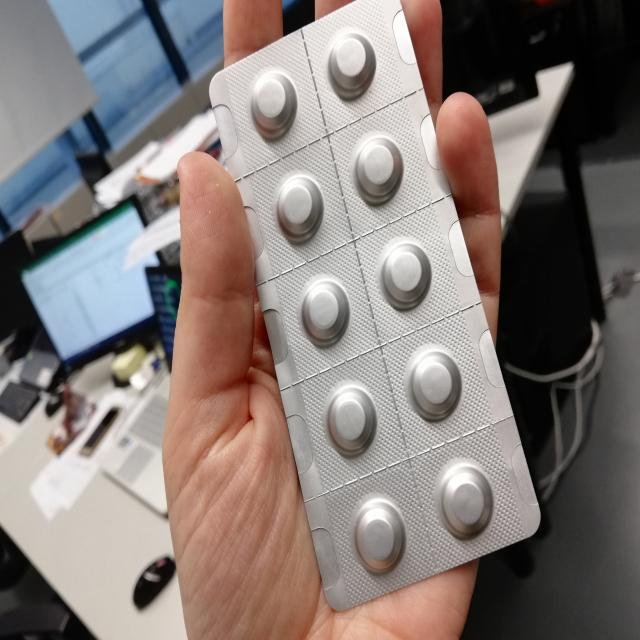Pill: (347, 496, 410, 582), (438, 452, 494, 546), (318, 380, 381, 461), (404, 344, 464, 426), (294, 274, 356, 352), (375, 237, 435, 317), (349, 130, 407, 209), (269, 168, 325, 246), (324, 28, 381, 104), (248, 63, 298, 141)
